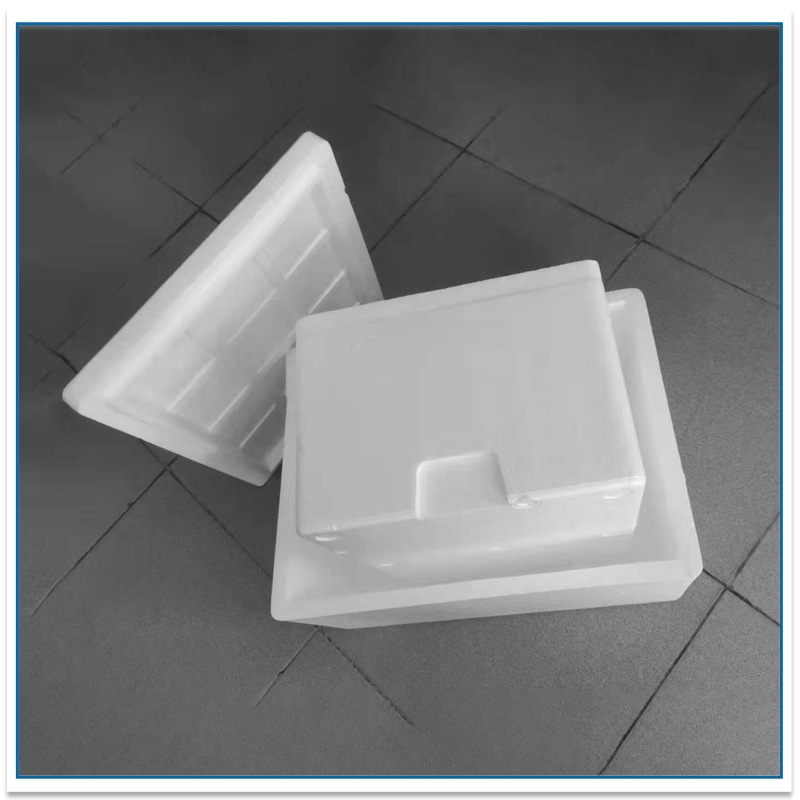泡沫箱: (63, 132, 704, 629)
